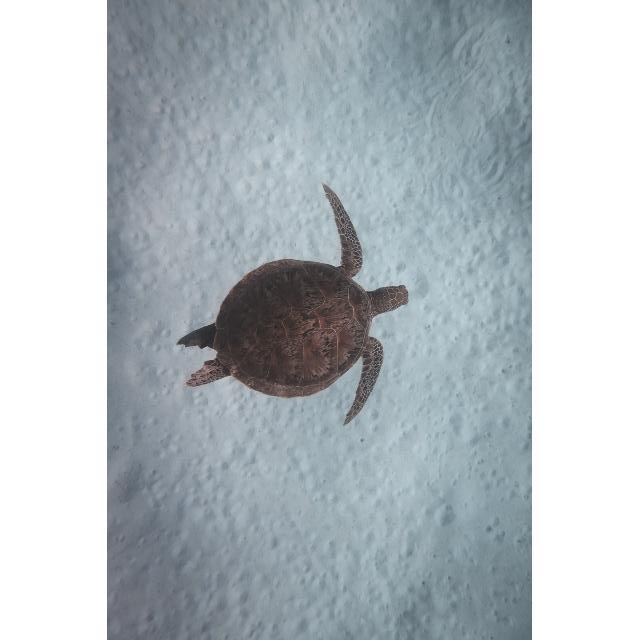turtle: (175, 182, 409, 426)
